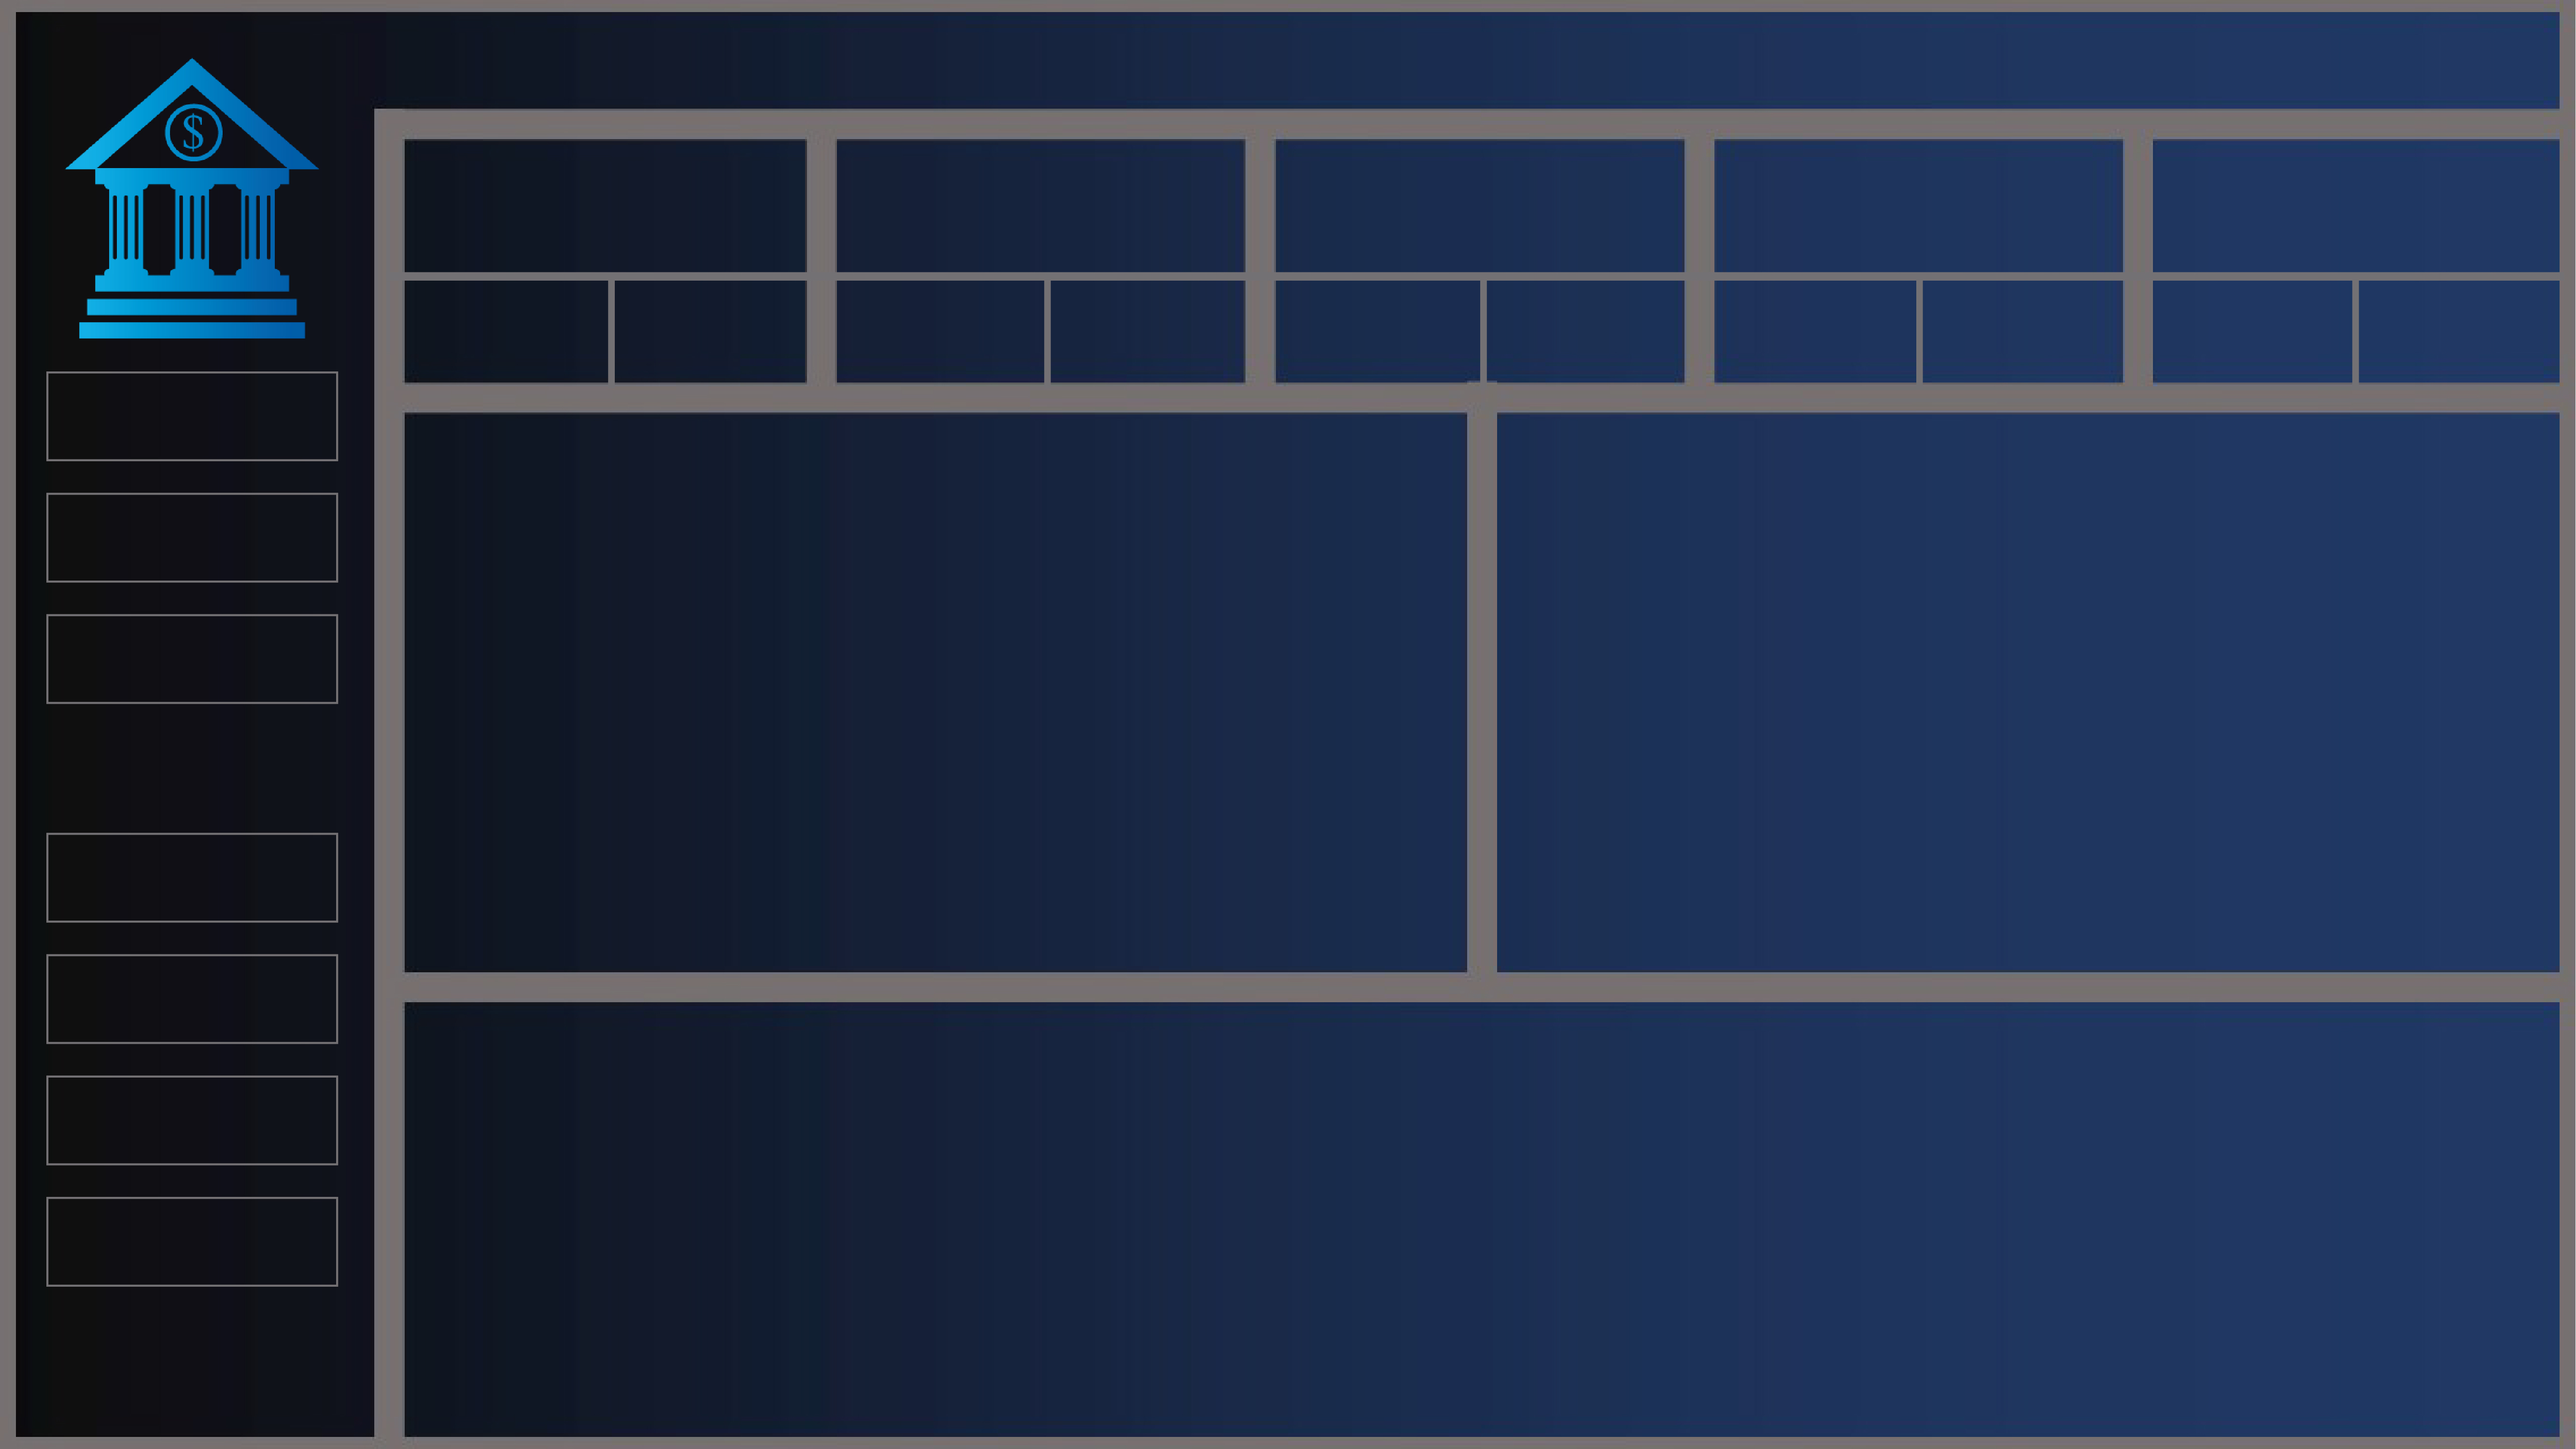

The page's visual inventory and layout, read from the dashboard file:
{"tool":"tableau","page":{"name":"Details","canvas":[1600,900],"ordinal":0},"visuals":[{"type":"image","param":"E:/MY_DE/Project/Data Analytics/Bank Loan Report/Raw/summary-01.jpg","box":[8,8,1584,884]},{"type":"text","box":[477,8,778,88]},{"type":"worksheet","title":"Total Loan Applications","mark":"Automatic","box":[266,95,242,82]},{"type":"worksheet","title":"Total Amount Received","mark":"Automatic","box":[793,95,246,81]},{"type":"worksheet","title":"Total Funded Amount","mark":"Automatic","box":[527,96,247,80]},{"type":"worksheet","title":"Avg DTI","mark":"Automatic","box":[1324,96,243,77]},{"type":"worksheet","title":"Avg Int Rate","mark":"Automatic","box":[1058,97,246,78]},{"type":"text","box":[528,181,123,30]},{"type":"text","box":[656,181,117,30]},{"type":"text","box":[920,181,118,30]},{"type":"text","box":[1055,181,123,30]},{"type":"text","box":[1449,181,118,30]},{"type":"text","box":[393,182,115,30]},{"type":"text","box":[1183,182,121,30]},{"type":"text","box":[267,183,123,30]},{"type":"text","box":[792,183,123,30]},{"type":"text","box":[1322,183,123,30]},{"type":"worksheet","title":"MTD Total Loan Application","mark":"Automatic","box":[266,205,122,47]},{"type":"worksheet","title":"MOM Total Amount Received","mark":"Automatic","box":[921,207,118,36]},{"type":"worksheet","title":"MOM Avg DTI","mark":"Automatic","box":[1447,207,119,34]},{"type":"worksheet","title":"MOM Total Funded Amount","mark":"Automatic","box":[657,209,116,41]},{"type":"worksheet","title":"MTD Avg Int Rate","mark":"Automatic","box":[1059,209,120,35]},{"type":"worksheet","title":"MOM Total Loan Applications","mark":"Automatic","box":[393,210,116,34]},{"type":"worksheet","title":"MOM Avg Int Rate","mark":"Automatic","box":[1184,210,122,32]},{"type":"worksheet","title":"MTD Total Funded Amount","mark":"Automatic","box":[526,212,126,37]},{"type":"worksheet","title":"MTD Avg DTI","mark":"Automatic","box":[1324,212,117,31]},{"type":"worksheet","title":"MTD Total Amount Received","mark":"Automatic","box":[792,216,122,33]},{"type":"dashboard-object","box":[49,237,177,53]},{"type":"worksheet","title":"Deatils tab","mark":"Automatic","rows":["id","purpose","home_ownership","grade","sub_grade","Calculation_1001206494944010258"],"box":[263,269,1305,611]},{"type":"dashboard-object","box":[49,310,177,53]},{"type":"dashboard-object","box":[49,384,177,53]},{"type":"filter","title":"Avg DTI","param":"[federated.0ol9xwp0q8yi7t1f7tcwo101fza0].[none:purpose:nk]","box":[50,516,176,53]},{"type":"filter","title":"Avg DTI","param":"[federated.0ol9xwp0q8yi7t1f7tcwo101fza0].[none:verification_status:nk]","box":[50,591,173,50]},{"type":"filter","title":"Avg DTI","param":"[federated.0ol9xwp0q8yi7t1f7tcwo101fza0].[none:grade:nk]","box":[51,662,174,54]},{"type":"parameter","param":"[Parameters].[Parameter 1]","box":[50,737,178,55]}]}

Visuals, with their boxes in screenshot pixels (x1, y1, x2, y2), scaled from the page's 1600x900 canvas onto the 2576x1449 screenshot:
image: [13, 13, 2563, 1436]
text: [768, 13, 2021, 155]
"Total Loan Applications" worksheet: [428, 153, 818, 285]
"Total Amount Received" worksheet: [1277, 153, 1673, 284]
"Total Funded Amount" worksheet: [849, 155, 1246, 284]
"Avg DTI" worksheet: [2132, 155, 2523, 279]
"Avg Int Rate" worksheet: [1703, 156, 2099, 282]
text: [850, 291, 1048, 340]
text: [1056, 291, 1245, 340]
text: [1481, 291, 1671, 340]
text: [1698, 291, 1897, 340]
text: [2333, 291, 2523, 340]
text: [633, 293, 818, 341]
text: [1905, 293, 2099, 341]
text: [430, 295, 628, 343]
text: [1275, 295, 1473, 343]
text: [2128, 295, 2326, 343]
"MTD Total Loan Application" worksheet: [428, 330, 624, 406]
"MOM Total Amount Received" worksheet: [1483, 333, 1673, 391]
"MOM Avg DTI" worksheet: [2330, 333, 2521, 388]
"MOM Total Funded Amount" worksheet: [1058, 337, 1245, 402]
"MTD Avg Int Rate" worksheet: [1705, 337, 1898, 393]
"MOM Total Loan Applications" worksheet: [633, 338, 820, 393]
"MOM Avg Int Rate" worksheet: [1906, 338, 2103, 390]
"MTD Total Funded Amount" worksheet: [847, 341, 1050, 401]
"MTD Avg DTI" worksheet: [2132, 341, 2320, 391]
"MTD Total Amount Received" worksheet: [1275, 348, 1472, 401]
dashboard-object: [79, 382, 364, 467]
"Deatils tab" worksheet: [424, 433, 2524, 1417]
dashboard-object: [79, 499, 364, 584]
dashboard-object: [79, 618, 364, 704]
"Avg DTI" filter: [81, 831, 364, 916]
"Avg DTI" filter: [81, 952, 359, 1032]
"Avg DTI" filter: [82, 1066, 362, 1153]
parameter: [81, 1187, 367, 1275]
